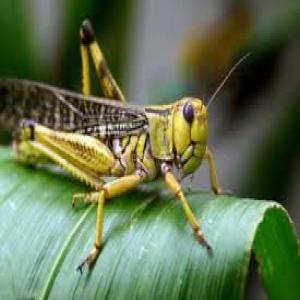locust: (2, 59, 242, 190)
